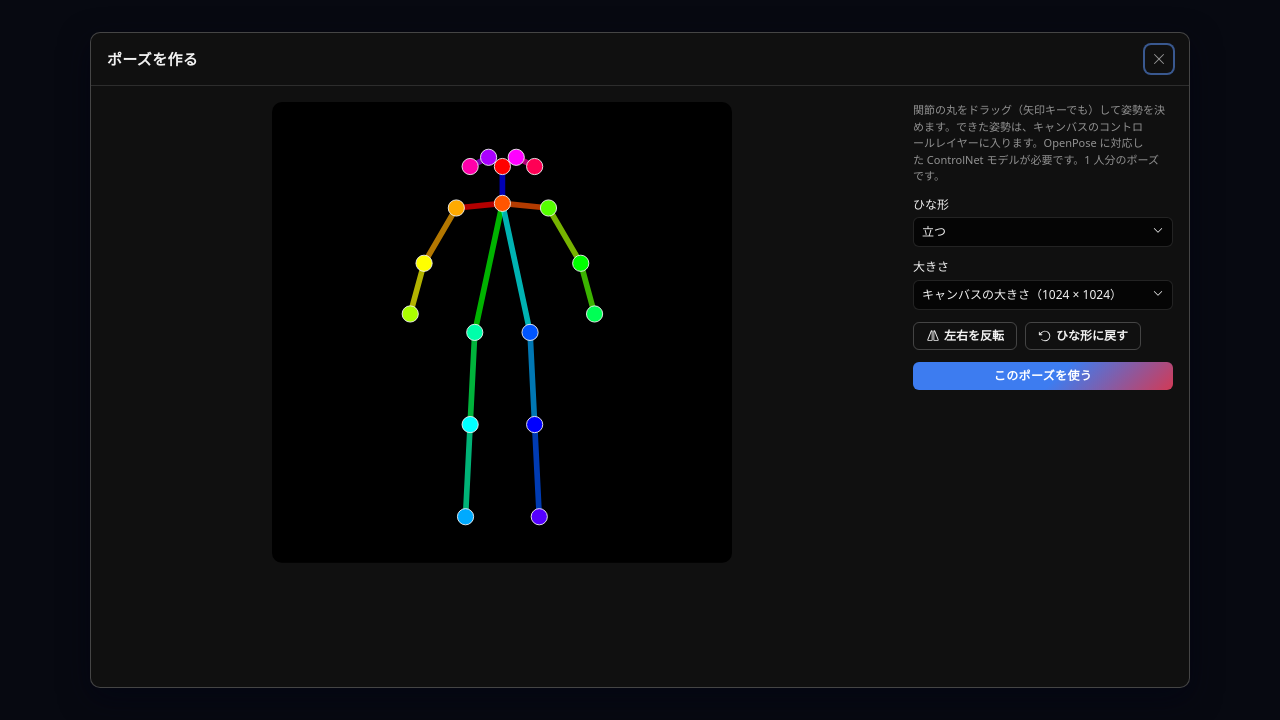
Test: using the pose › shows a failure that is not an Error as text, and fails when the canvas gives no picture
expect the element with test id "pose-dialog" is shown: met, box [272,102,1173,563]
Click the button with test id "pose-use". click: [1043, 376]
box: [913,362,1173,390]
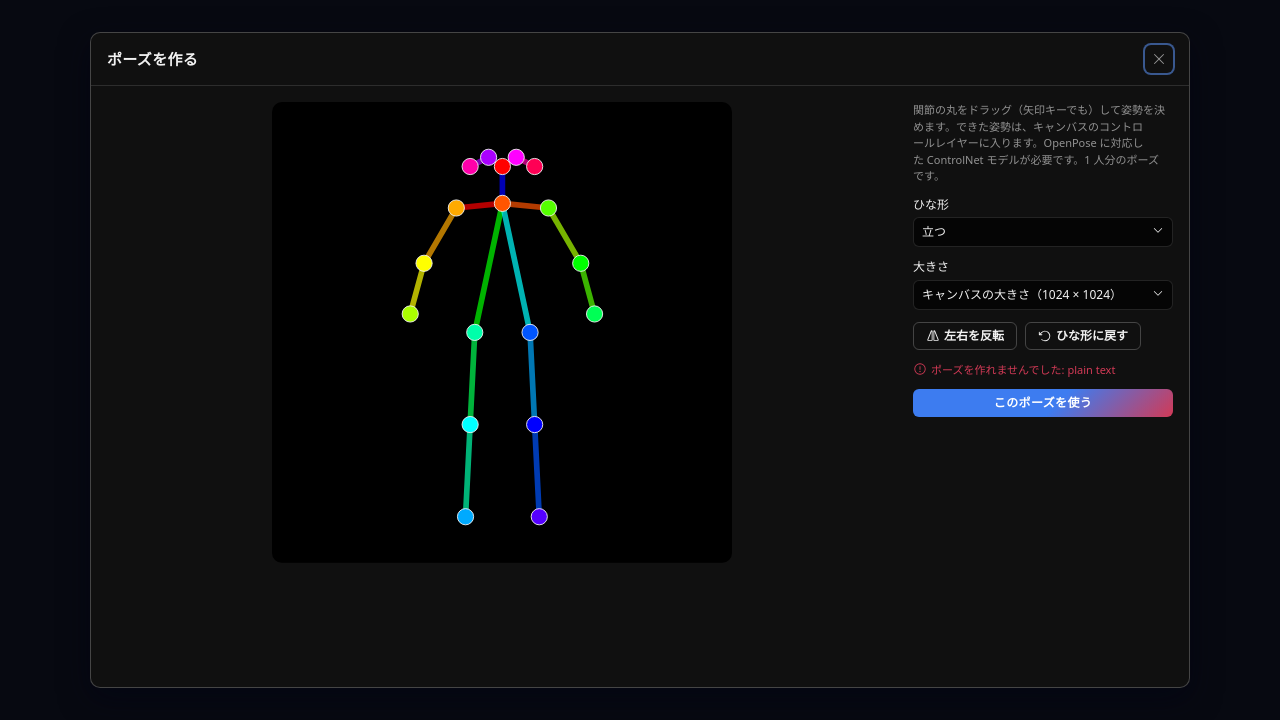
expect the message shows "plain text": met, box [1067,362,1115,377]
Click the button with test id "pose-use". click: [1043, 404]
box: [913,390,1173,418]
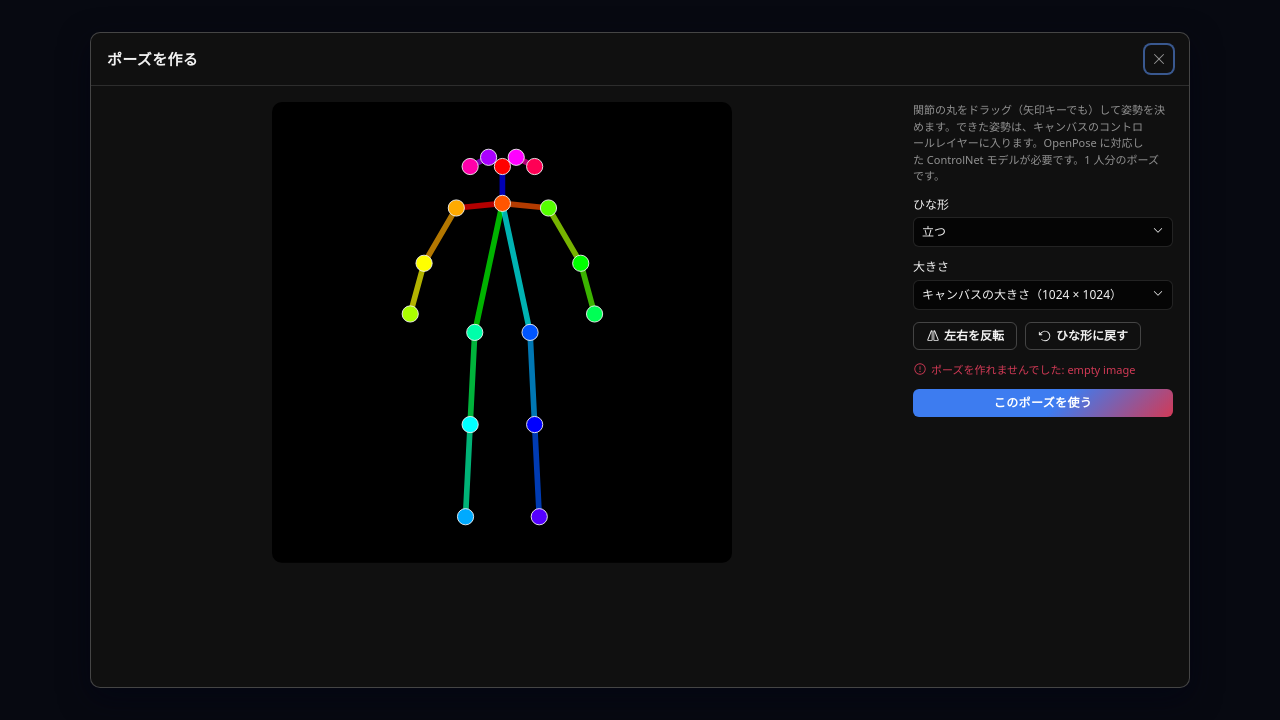
expect the message shows "empty image": met, box [1067,362,1135,377]
